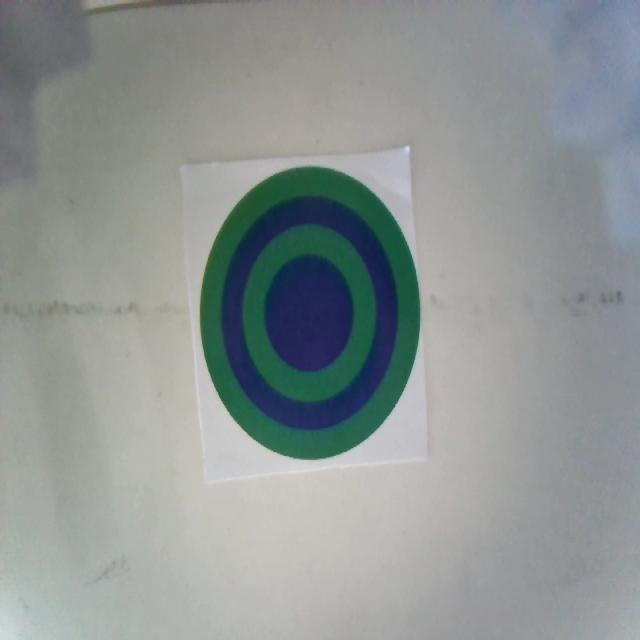cogn: (198, 166, 420, 460)
